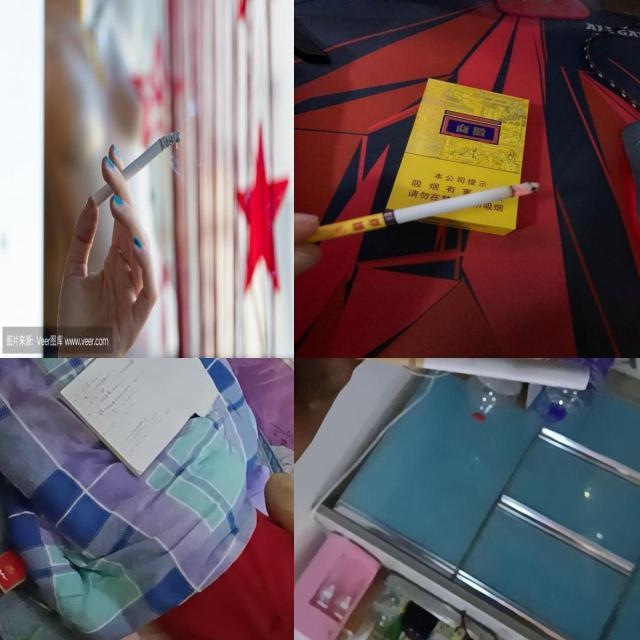smoking: (304, 182, 540, 242), (354, 358, 592, 391), (94, 132, 180, 208)
